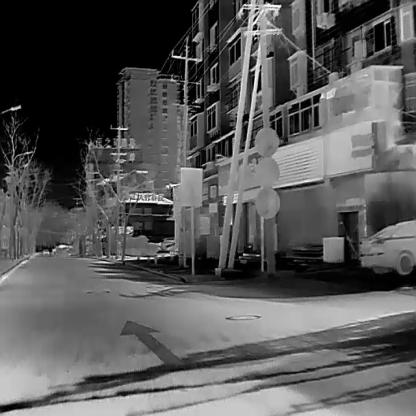car: (358, 219, 416, 274), (42, 246, 50, 256)
